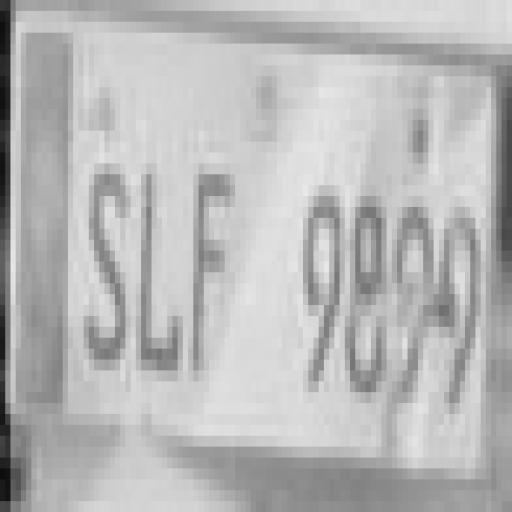8: (342, 206, 390, 411)
9: (435, 192, 484, 406), (292, 185, 340, 393), (395, 201, 435, 412)
F: (187, 170, 243, 373), (84, 166, 132, 373)
L: (136, 160, 178, 374)
